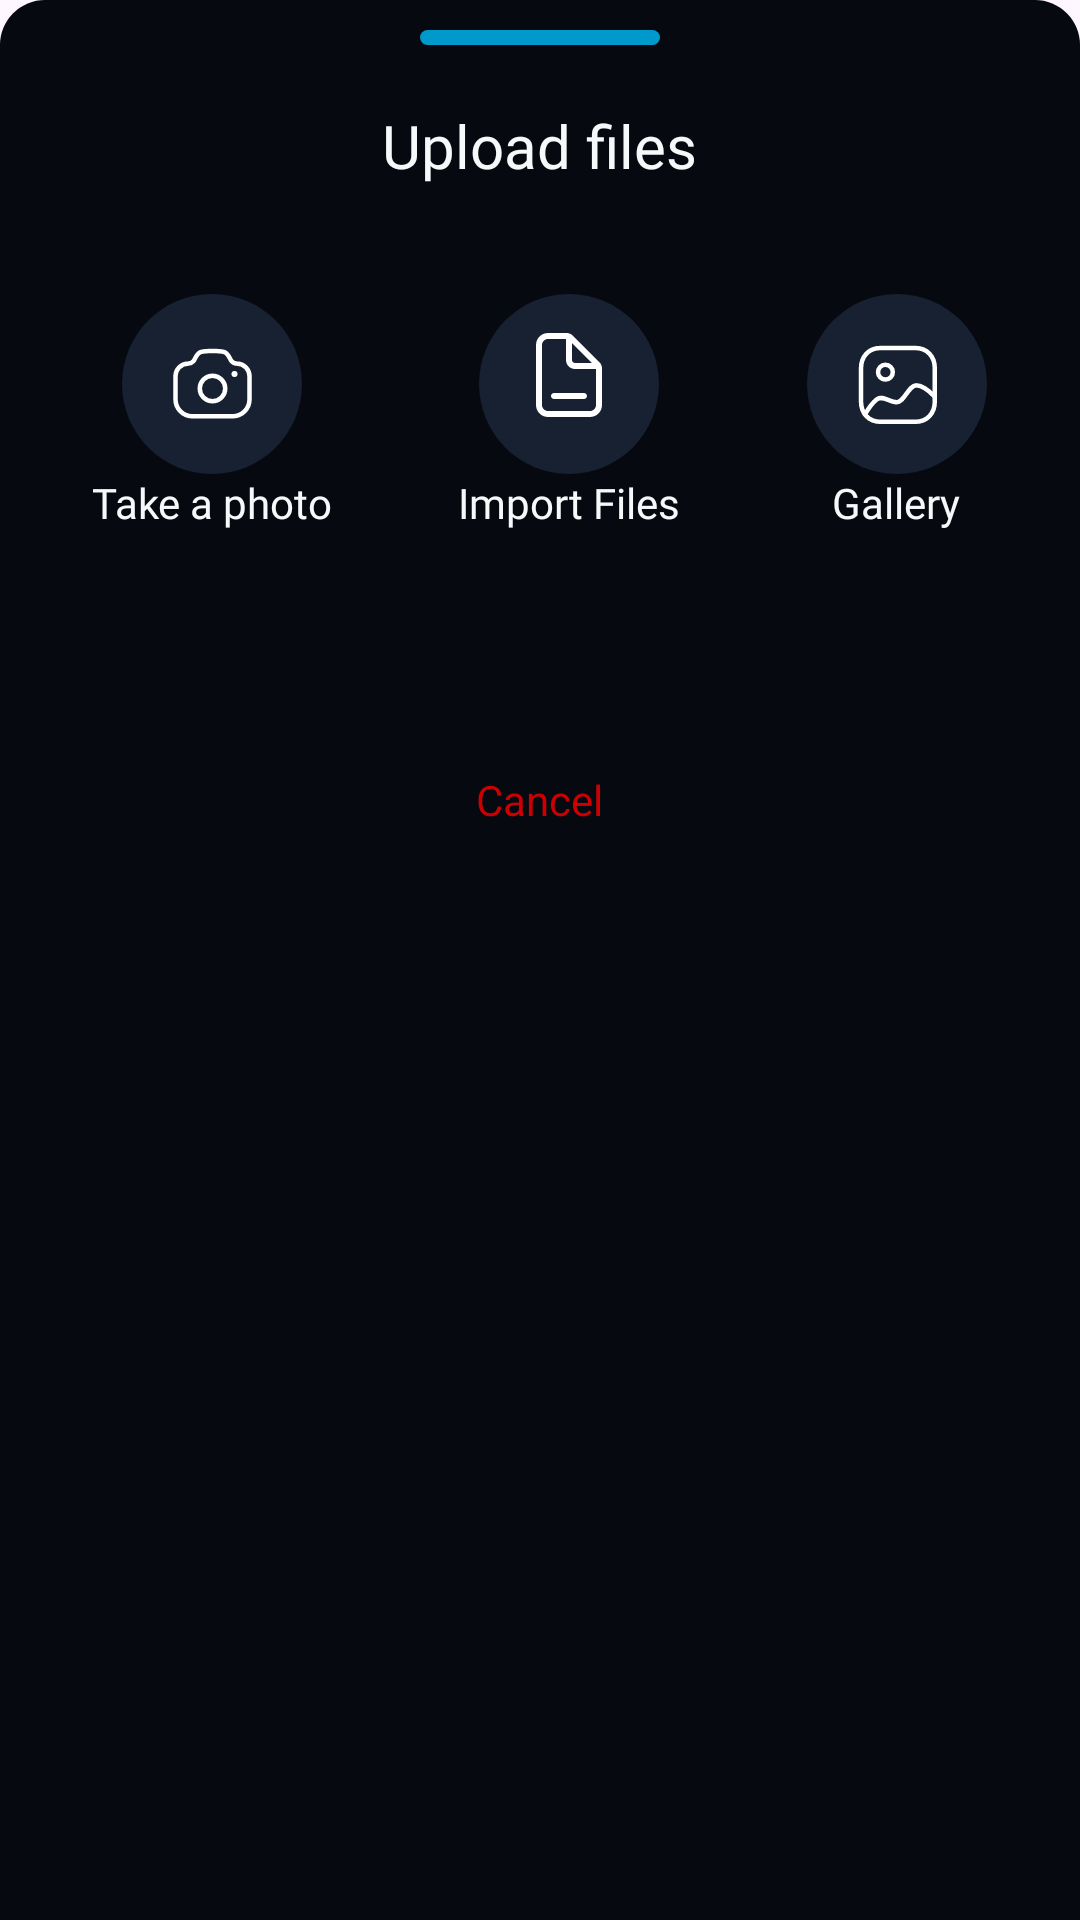

Named icons in this screenshot (1080 × 1920) and their bounding boxes, box=[x1, y1, x2, y2]:
camera: box=[122, 294, 302, 474]
document: box=[479, 294, 659, 474]
